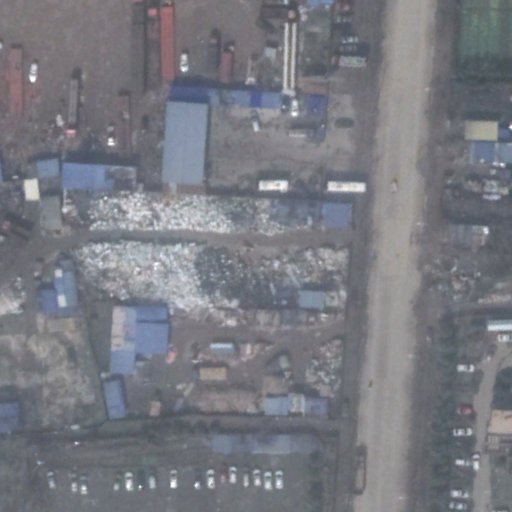msw: (70, 245, 350, 322), (84, 195, 306, 236)
